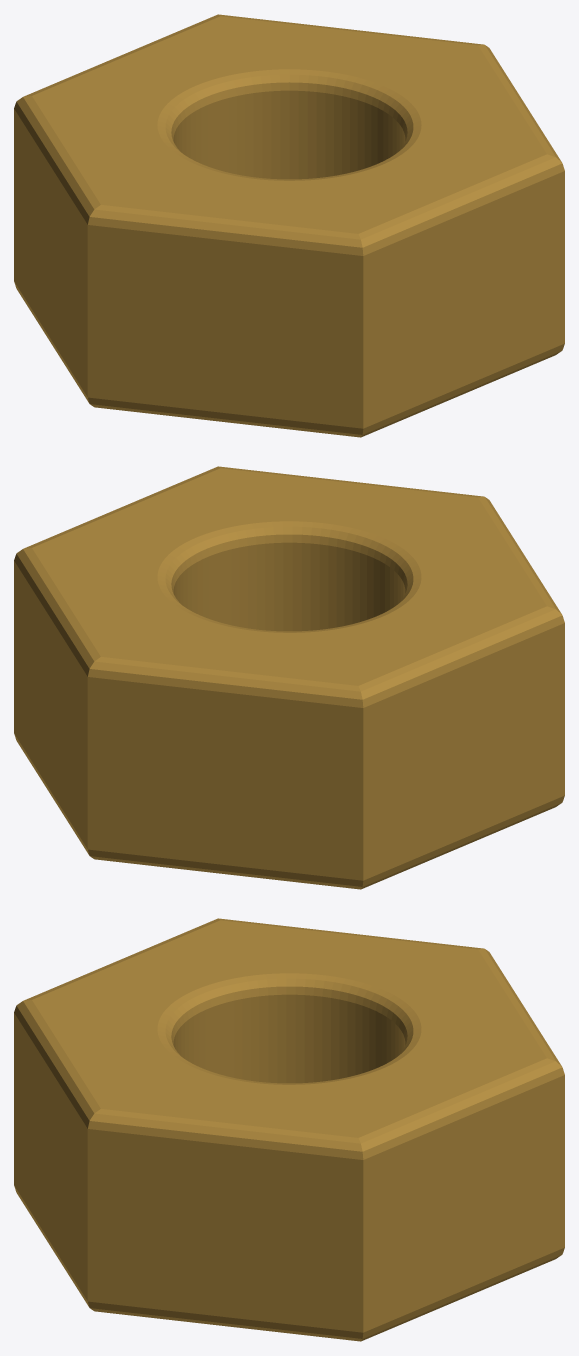
Rendered from m6-nut.glb.
The picture shows the model from 3 angles, top to bottom: view 1: azimuth 30°, elevation 25°; view 2: azimuth 150°, elevation 25°; view 3: azimuth 270°, elevation 25°; orthographic projection.
Visible parts, largest first — view 1: bom-illustration-m6-nut; view 2: bom-illustration-m6-nut; view 3: bom-illustration-m6-nut.
Part boxes in pixels (<box>): bom-illustration-m6-nut: <box>14,14,564,437</box>; bom-illustration-m6-nut: <box>14,466,564,889</box>; bom-illustration-m6-nut: <box>14,918,564,1341</box>.
Bounding box in the file's own units: 13.02 × 5.26 × 13.02.
